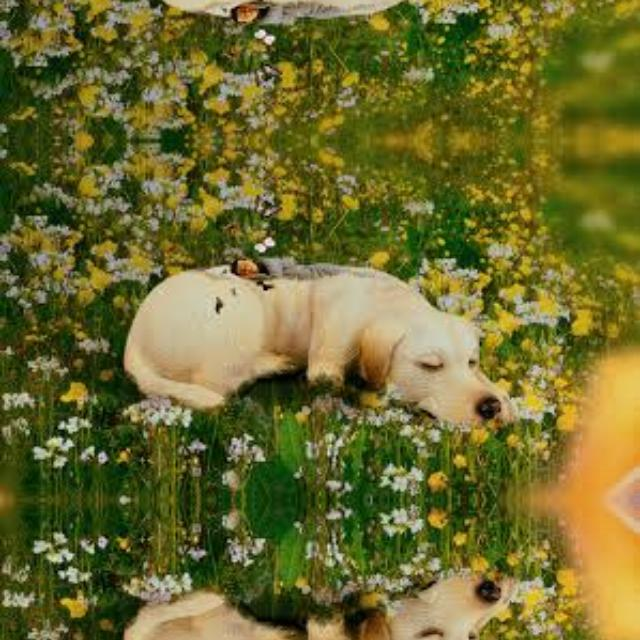dog: (99, 220, 493, 456), (99, 543, 493, 640), (99, 0, 493, 59)
